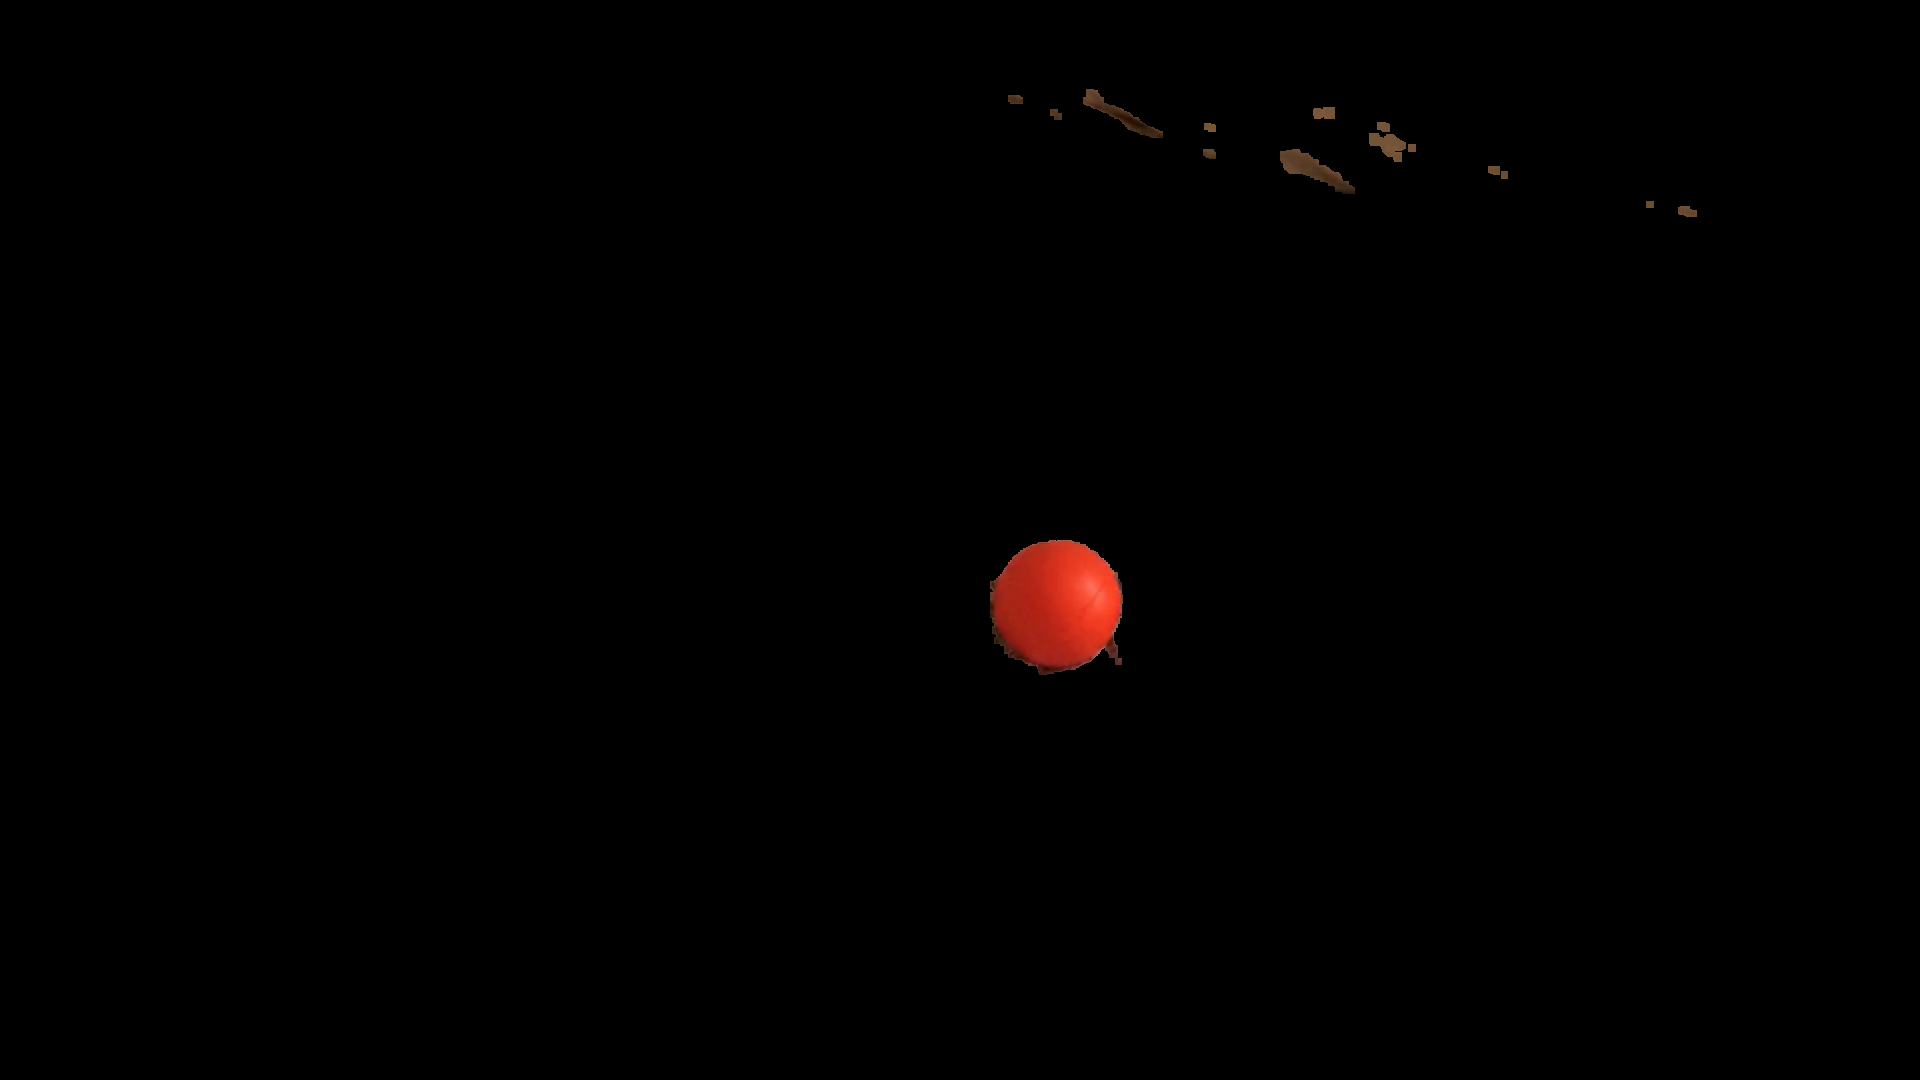Ball: (994, 538, 1127, 669)
